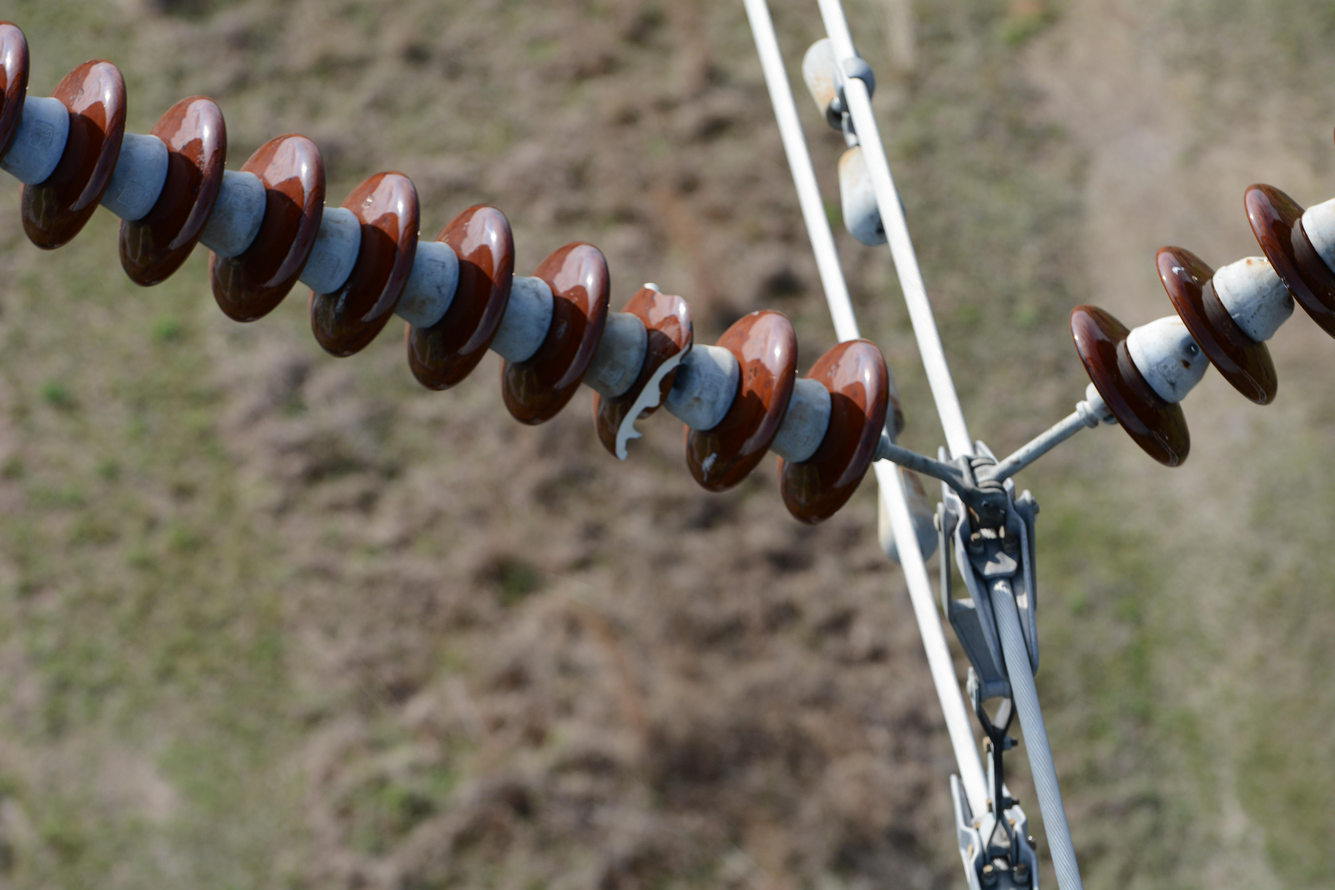damaged: (607, 276, 711, 455)
hammer: (800, 38, 901, 241), (847, 357, 932, 556)
insulator: (0, 27, 886, 526), (1060, 190, 1335, 463)
